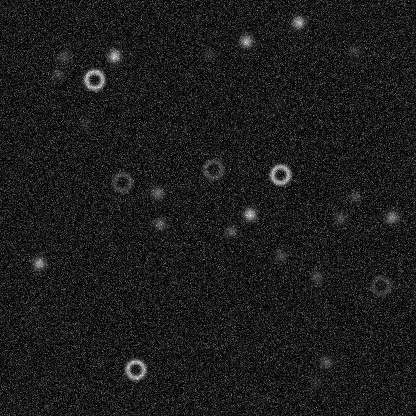Ring: (123, 357, 147, 381), (110, 169, 134, 193), (268, 162, 292, 186), (82, 67, 106, 91), (200, 157, 224, 181), (368, 273, 392, 297)
Spot: (272, 246, 288, 262), (383, 209, 399, 225), (151, 216, 167, 232), (149, 184, 165, 200), (241, 206, 257, 222), (332, 210, 348, 226), (318, 354, 334, 370), (55, 47, 71, 63), (106, 47, 122, 63), (201, 46, 217, 62), (346, 188, 362, 204), (237, 33, 253, 49), (290, 14, 306, 30), (76, 114, 92, 130), (223, 223, 239, 239), (50, 66, 66, 82), (346, 42, 362, 58), (306, 374, 322, 390), (30, 255, 46, 271), (308, 268, 324, 284)
